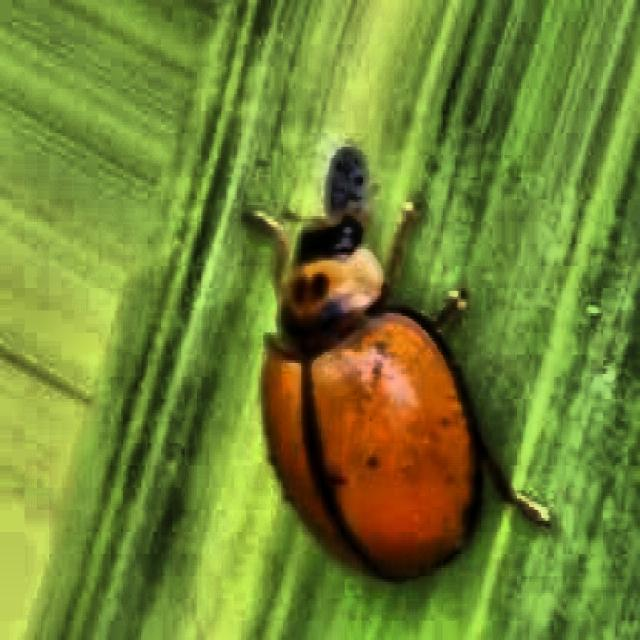Ladybug: (174, 124, 565, 633)
